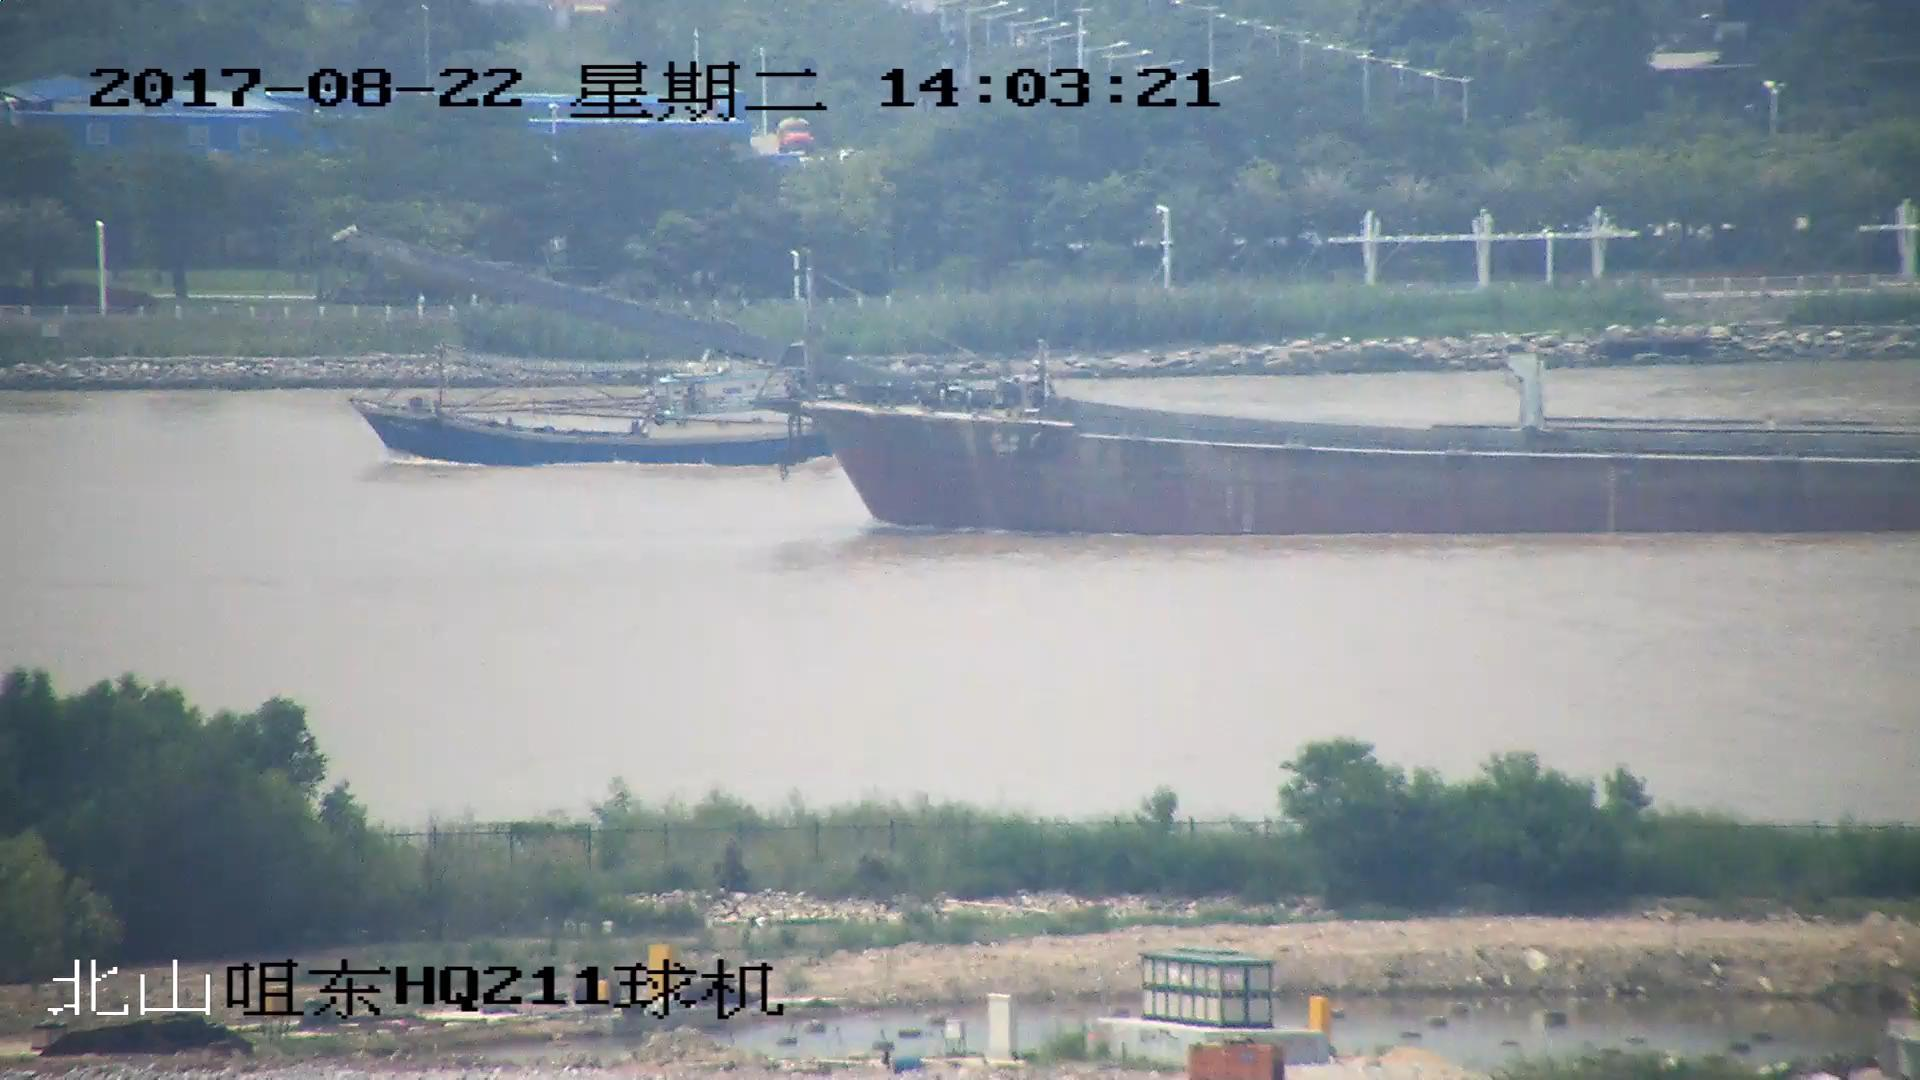Ship: (339, 236, 1920, 541), (351, 351, 820, 468)
